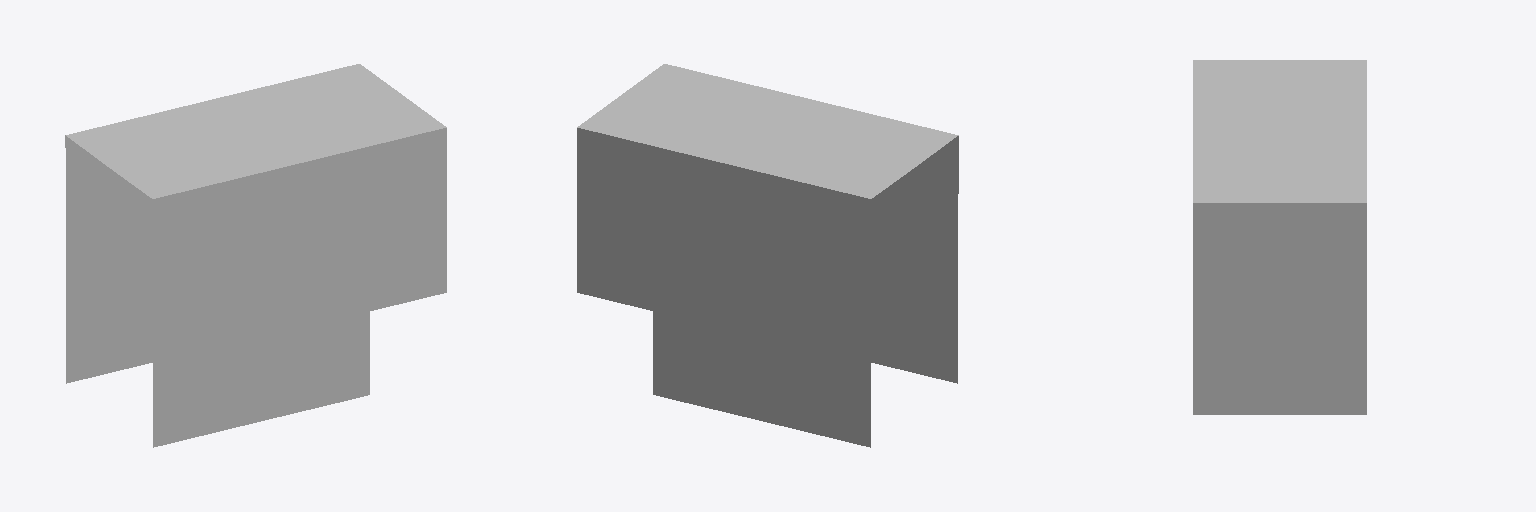
The model's file is dankroom.obj.
3 views of the same model, side by side, from view 1: azimuth 30°, elevation 25°; view 2: azimuth 150°, elevation 25°; view 3: azimuth 270°, elevation 25° (orthographic).
Parts seen in each view (by area): view 1: Plane; view 2: Plane; view 3: Plane.
Part boxes in pixels (x1,y1,x2,y2): Plane: (65, 64, 446, 447); Plane: (577, 64, 958, 447); Plane: (1193, 60, 1366, 414).
Bounding box in the file's own units: 11.18 × 9.03 × 5.74.